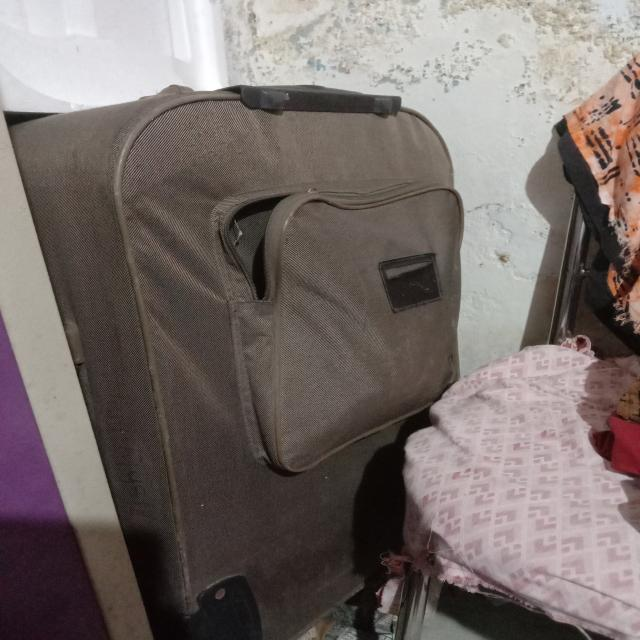suitcaserotation: (5, 80, 468, 638)
